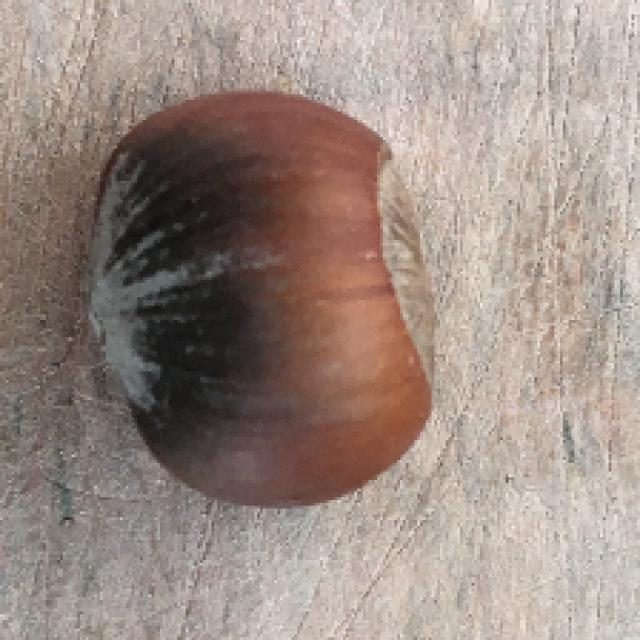damagedHazelnut: (78, 84, 446, 512)
